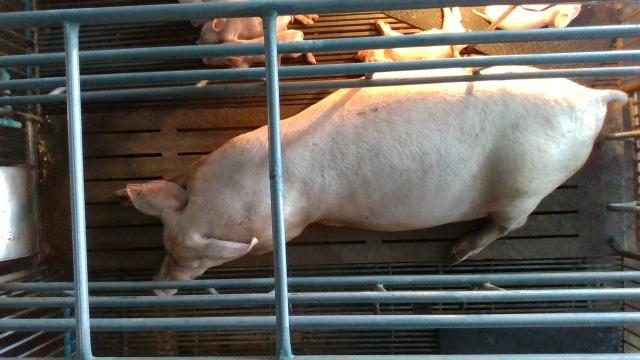piglet: (355, 7, 468, 63), (202, 29, 317, 67), (197, 13, 319, 43), (470, 4, 583, 28)
sow-sit: (117, 62, 625, 296)
